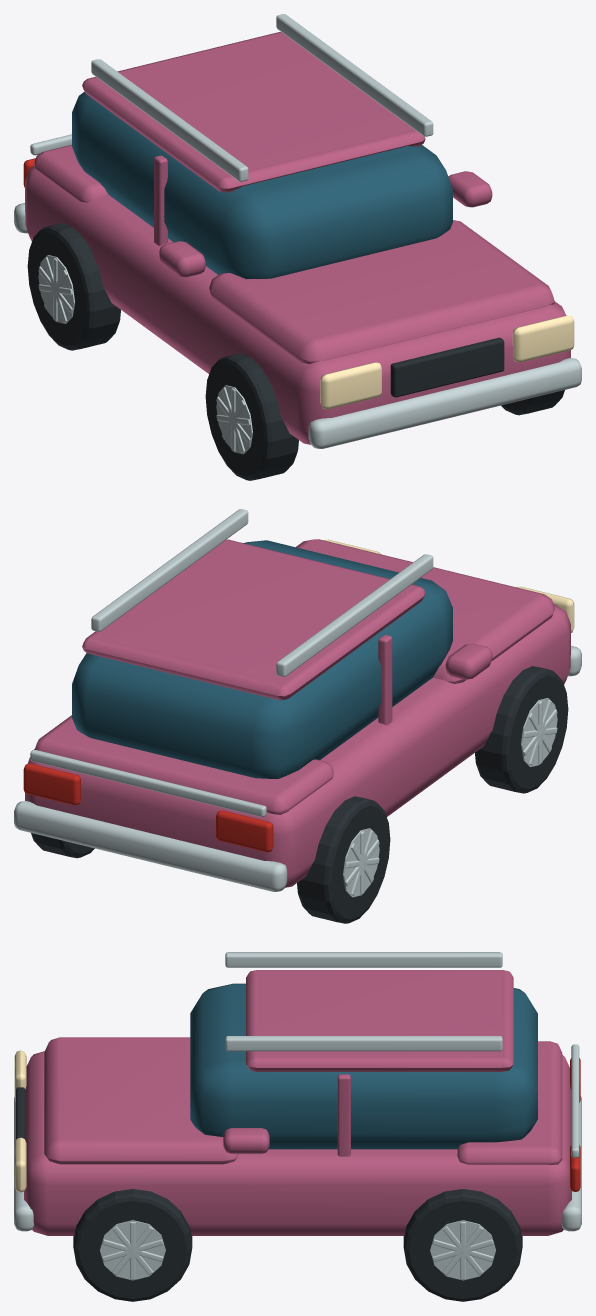
File: harbor-wagon.glb
3 renders of one model, top to bottom at view 1: azimuth 30°, elevation 25°; view 2: azimuth 150°, elevation 25°; view 3: azimuth 270°, elevation 25°, orthographic. The views are drawn at different scales.
Parts seen in each view (by area): view 1: harbor-wagon paint, Midnight blue glass.006, Satin alloy.006, TireMeshRL, TireMeshFL, Ivory headlights.006, Rubber.006, TireMeshFR; view 2: harbor-wagon paint, Midnight blue glass.006, Satin alloy.006, TireMeshFL, TireMeshRL, Red tail lamps.006, TireMeshRR, Ivory headlights.006; view 3: harbor-wagon paint, Midnight blue glass.006, Satin alloy.006, TireMeshFR, TireMeshRR, Ivory headlights.006, Red tail lamps.006, Rubber.006.
Part boxes in pixels (left/top/right/bottom): harbor-wagon paint: left=25, top=32, right=570, bottom=444; Midnight blue glass.006: left=72, top=92, right=452, bottom=279; Satin alloy.006: left=14, top=14, right=581, bottom=448; TireMeshRL: left=27, top=223, right=120, bottom=350; TireMeshFL: left=205, top=353, right=298, bottom=480; Ivory headlights.006: left=320, top=315, right=574, bottom=409; Rubber.006: left=390, top=337, right=504, bottom=397; TireMeshFR: left=501, top=390, right=564, bottom=415; harbor-wagon paint: left=25, top=539, right=570, bottom=887; Midnight blue glass.006: left=72, top=540, right=452, bottom=778; Satin alloy.006: left=14, top=509, right=581, bottom=891; TireMeshFL: left=475, top=666, right=568, bottom=793; TireMeshRL: left=297, top=796, right=390, bottom=923; Red tail lamps.006: left=23, top=763, right=273, bottom=852; TireMeshRR: left=31, top=833, right=94, bottom=858; Ivory headlights.006: left=324, top=539, right=574, bottom=632; harbor-wagon paint: left=24, top=970, right=571, bottom=1235; Midnight blue glass.006: left=190, top=983, right=537, bottom=1149; Satin alloy.006: left=14, top=952, right=581, bottom=1231; TireMeshFR: left=73, top=1189, right=192, bottom=1301; TireMeshRR: left=403, top=1189, right=522, bottom=1301; Ivory headlights.006: left=14, top=1050, right=26, bottom=1192; Red tail lamps.006: left=570, top=1058, right=580, bottom=1191; Rubber.006: left=16, top=1087, right=25, bottom=1139.
Size of the model in its own units: 2.55 by 2 by 4.3.
